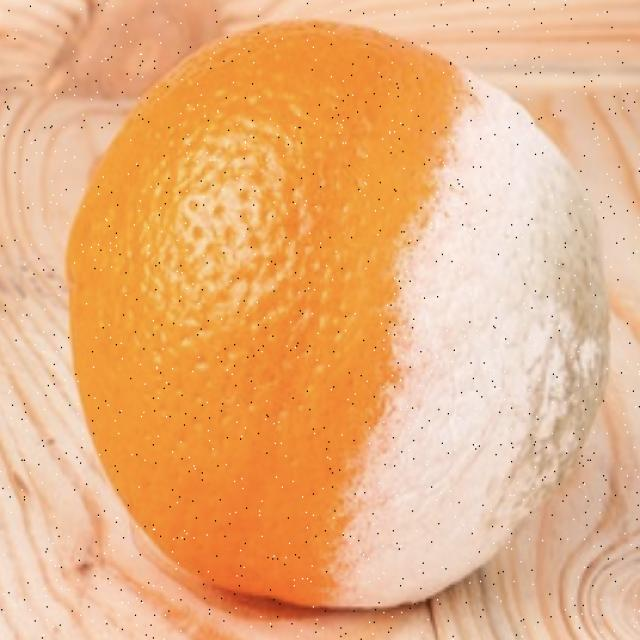Organik: (24, 3, 619, 626)
